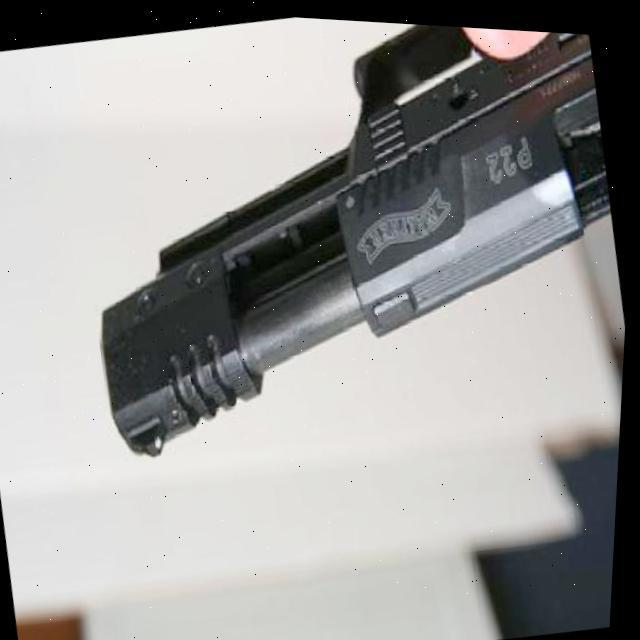gun: (47, 3, 640, 485)
